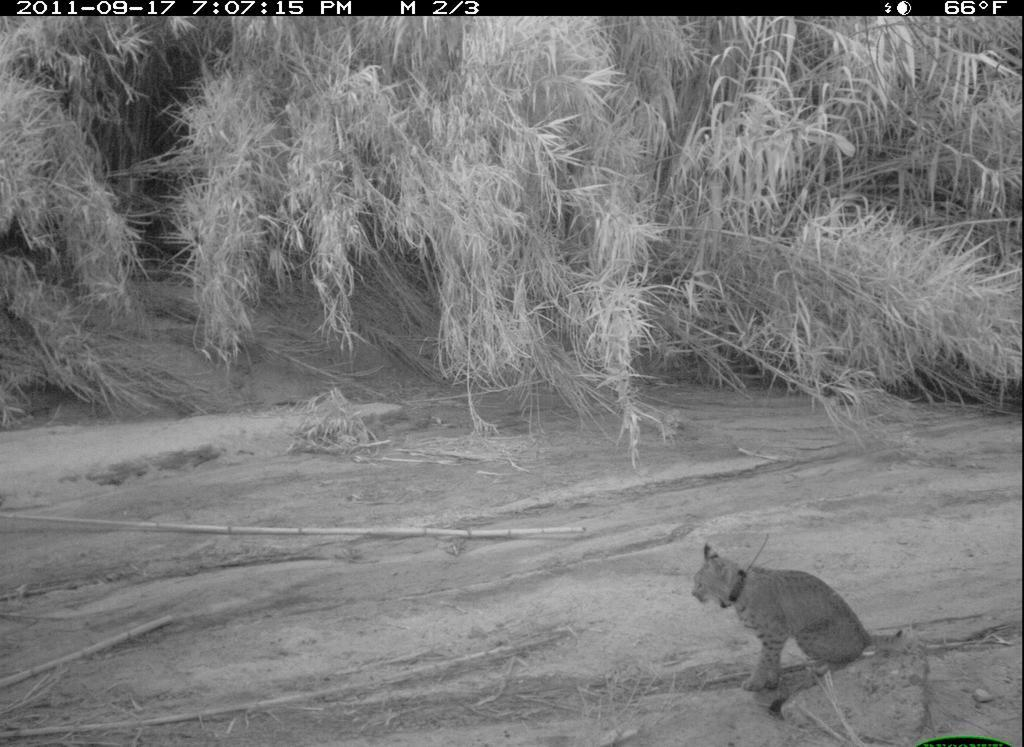bobcat: (684, 537, 908, 703)
